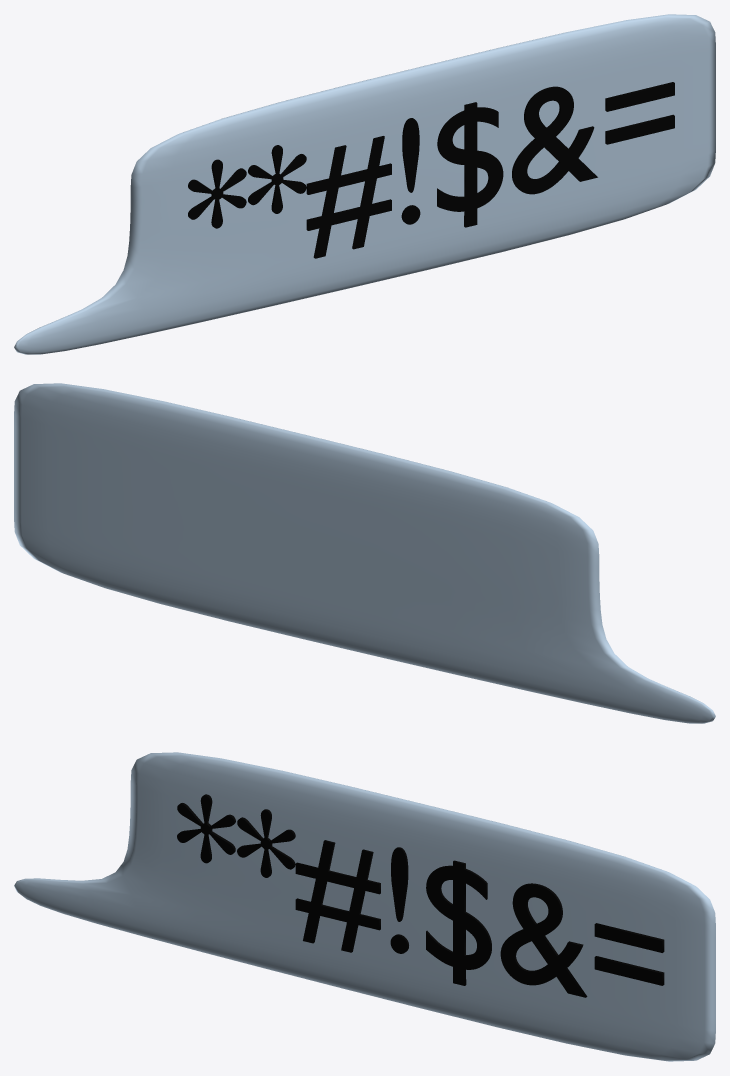
The model's file is foshnamoos1.fbx.
3 views of the same model, one above another, from view 1: azimuth 30°, elevation 25°; view 2: azimuth 150°, elevation 25°; view 3: azimuth 330°, elevation 25° (orthographic).
Visible parts, largest first — view 1: Cube, Text; view 2: Cube; view 3: Cube, Text.
Part boxes in pixels (x1,y1,x2,y2): Cube: [14, 14, 715, 354]; Text: [188, 82, 674, 258]; Cube: [14, 383, 715, 723]; Cube: [14, 752, 715, 1061]; Text: [177, 794, 664, 997].
Bounding box in the file's own units: 380 × 106 × 10.54.
